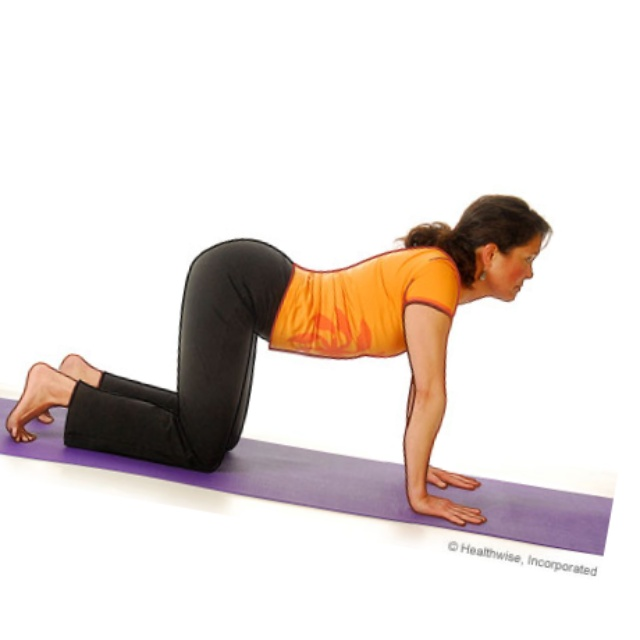Cow_Pose: (5, 194, 548, 528)
